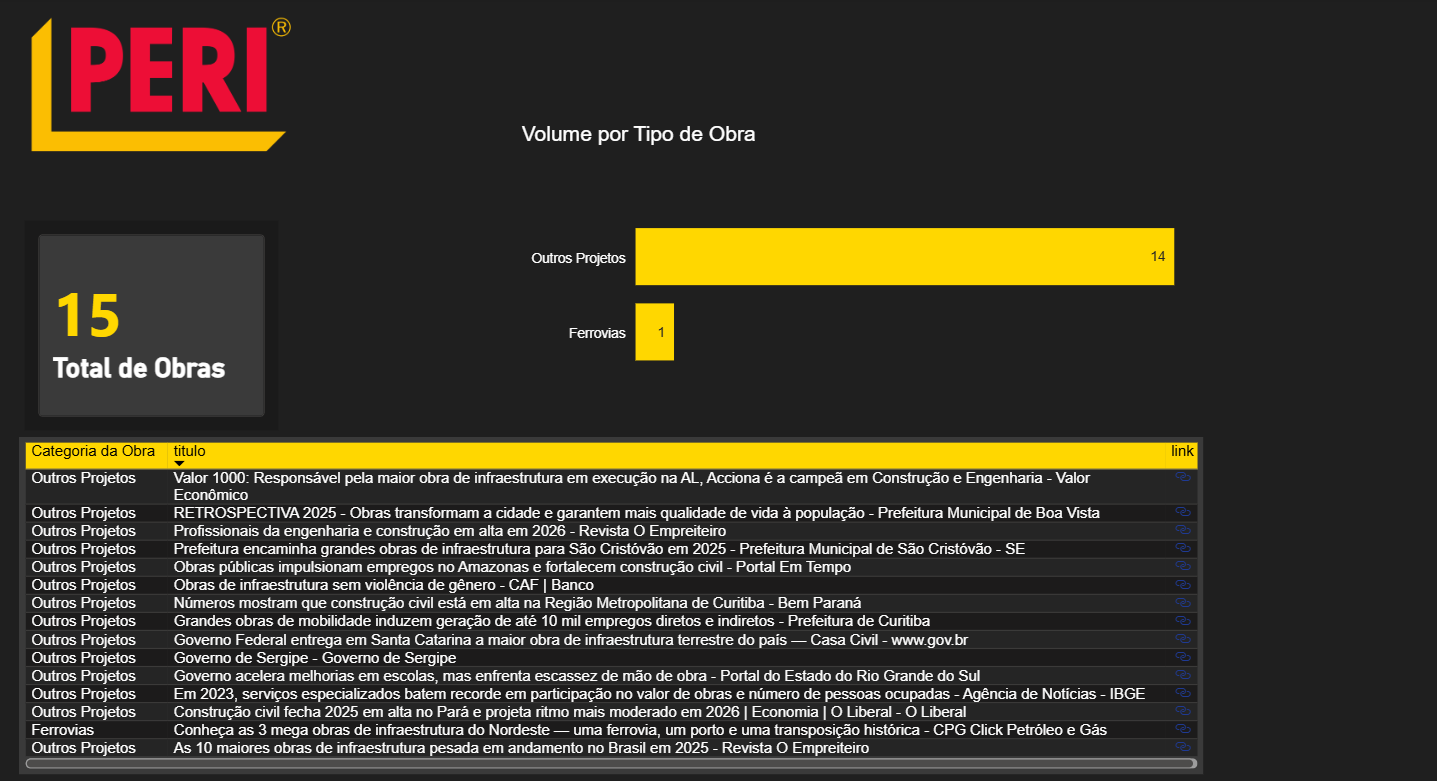

This screenshot's page, from the dashboard's own definition file:
{"tool":"powerbi","page":{"name":"Página 1","canvas":[1280,720],"ordinal":0},"visuals":[{"type":"cardVisual","fields":{"Data":["Count(dados_para_powerbi.titulo)"]},"box":[20.4,192.4,235.9,196.8],"z":0},{"type":"clusteredBarChart","title":"Volume por Tipo de Obra","fields":{"Category":["dados_para_powerbi.Categoria da Obra"],"Y":["Count(dados_para_powerbi.titulo)"]},"box":[461.1,110,609.2,279.3],"z":1},{"type":"tableEx","fields":{"Values":["dados_para_powerbi.Categoria da Obra","dados_para_powerbi.titulo","dados_para_powerbi.link"]},"box":[20.4,389.3,1049.9,298.8],"z":2},{"type":"image","box":[28.4,10.6,238.5,134.8],"z":3}]}

Visuals, with their boxes on the page's 1280x720 design canvas (x1, y1, x2, y2). These are canvas units, not pixel positions in the 1437x781 screenshot, which may show the page scaled, cropped or inside an application window:
cardVisual - Count(dados_para_powerbi.titulo): box(20, 192, 256, 389)
"Volume por Tipo de Obra" clusteredBarChart: box(461, 110, 1070, 389)
tableEx - dados_para_powerbi.Categoria da Obra x dados_para_powerbi.titulo: box(20, 389, 1070, 688)
image: box(28, 11, 267, 145)
